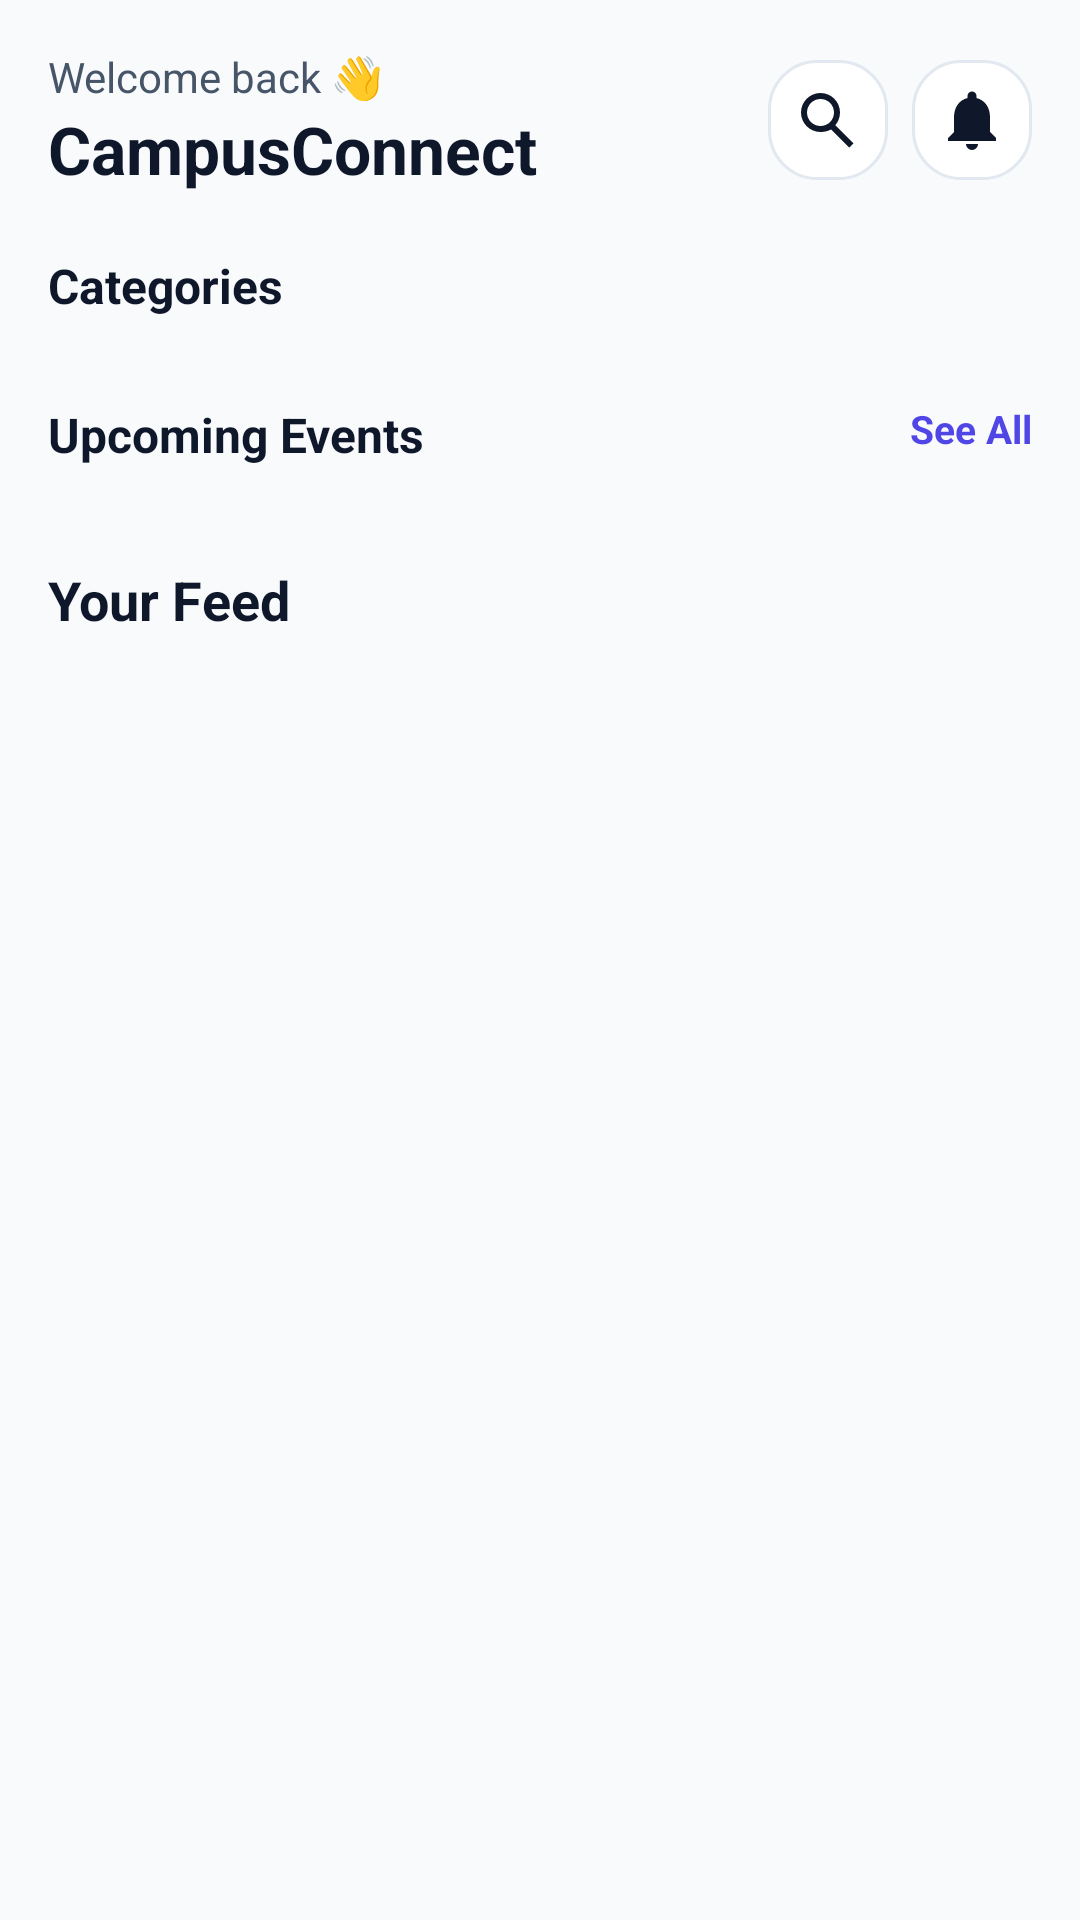

Named icons in this screenshot (1080px×1920px) and their bounding boxes, (x1, y1, x2, y2):
notifications: (948, 91, 996, 150)
search: (801, 93, 854, 148)
